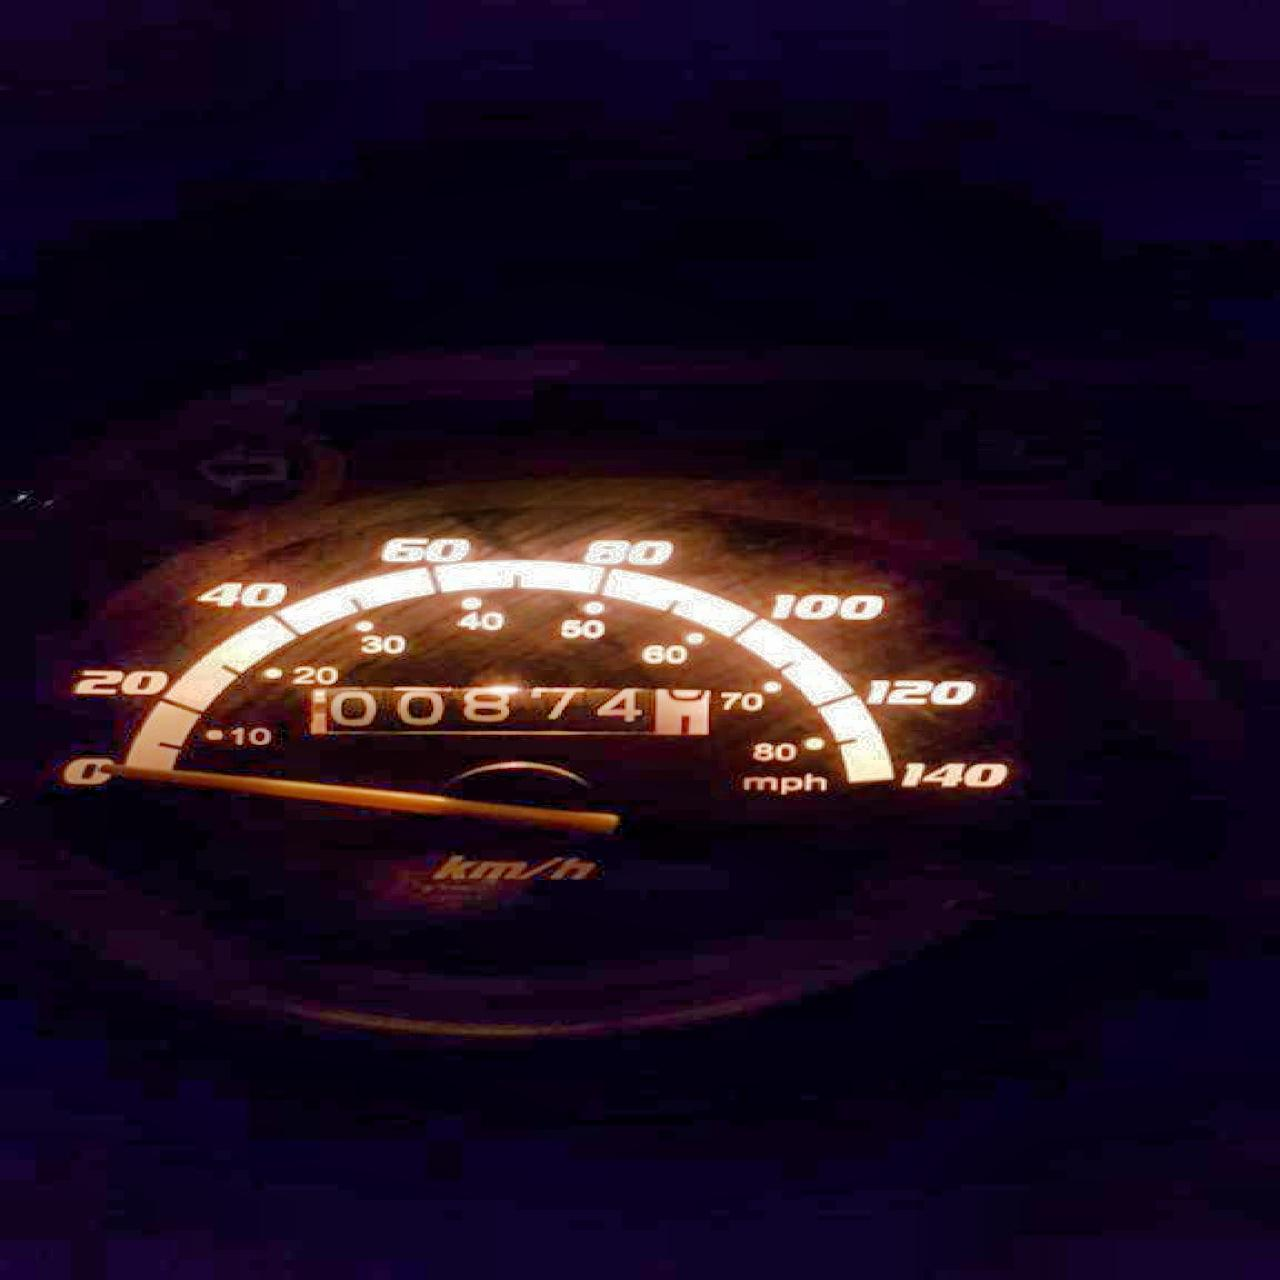0: (328, 690, 375, 726), (396, 690, 442, 724)
1: (673, 712, 692, 737)
4: (593, 687, 642, 722)
7: (526, 686, 576, 719)
8: (459, 688, 509, 722)
odometer: (300, 685, 712, 737)
